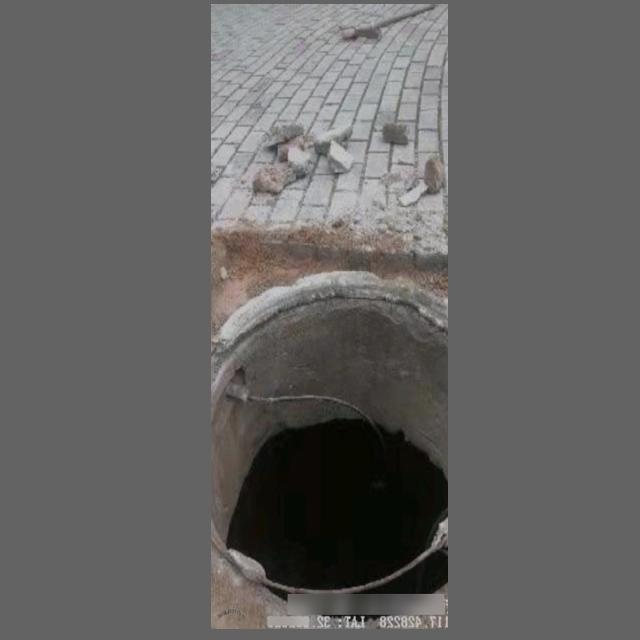lose: (211, 278, 448, 604)
